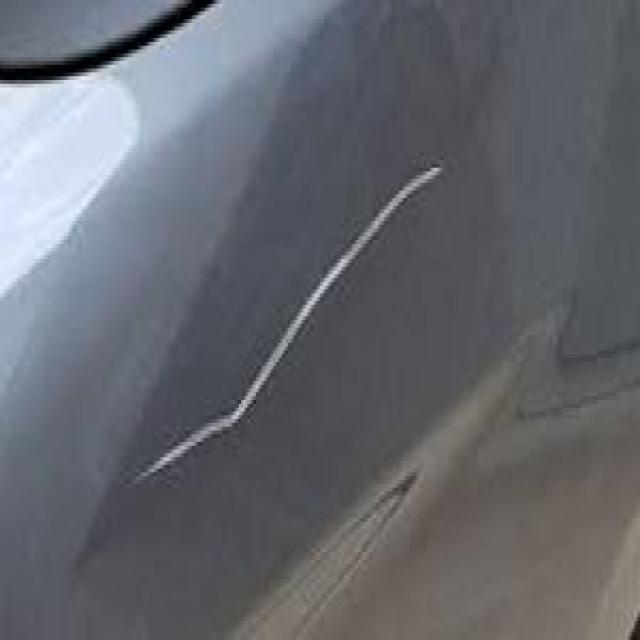scratch: (117, 150, 459, 505)
